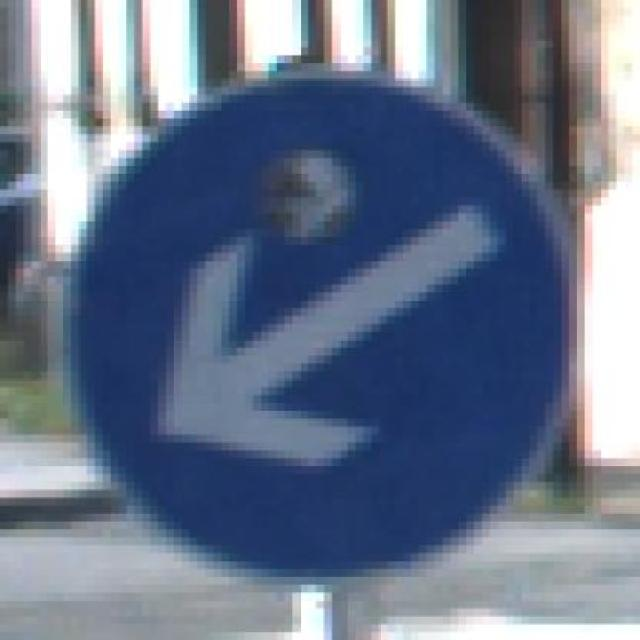Keep-Left: (70, 63, 584, 585)
